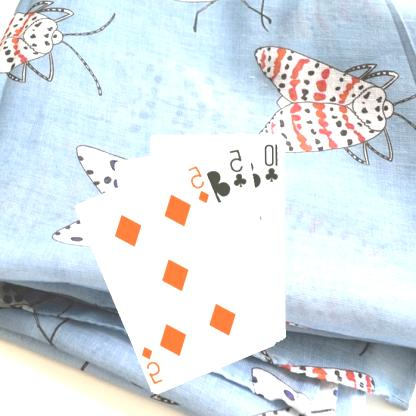10C: (263, 141, 282, 183)
5C: (228, 146, 250, 188)
5D: (186, 162, 212, 205), (140, 343, 166, 386)
